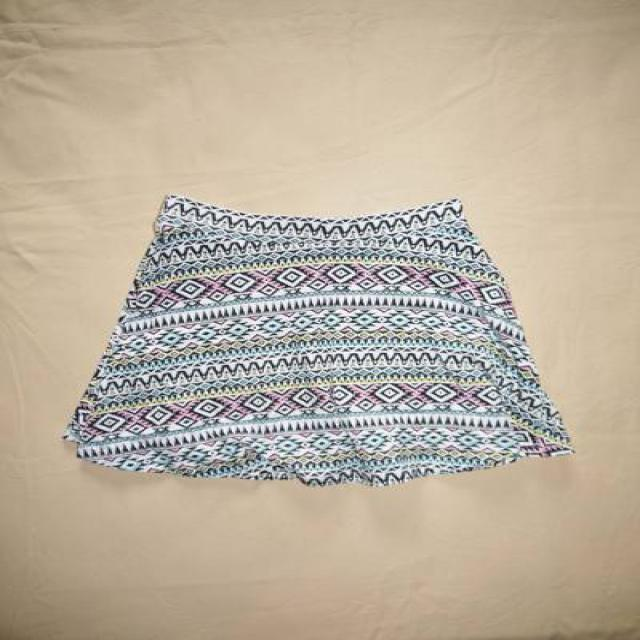Clothes -Biodegradable-: (63, 197, 573, 487)
